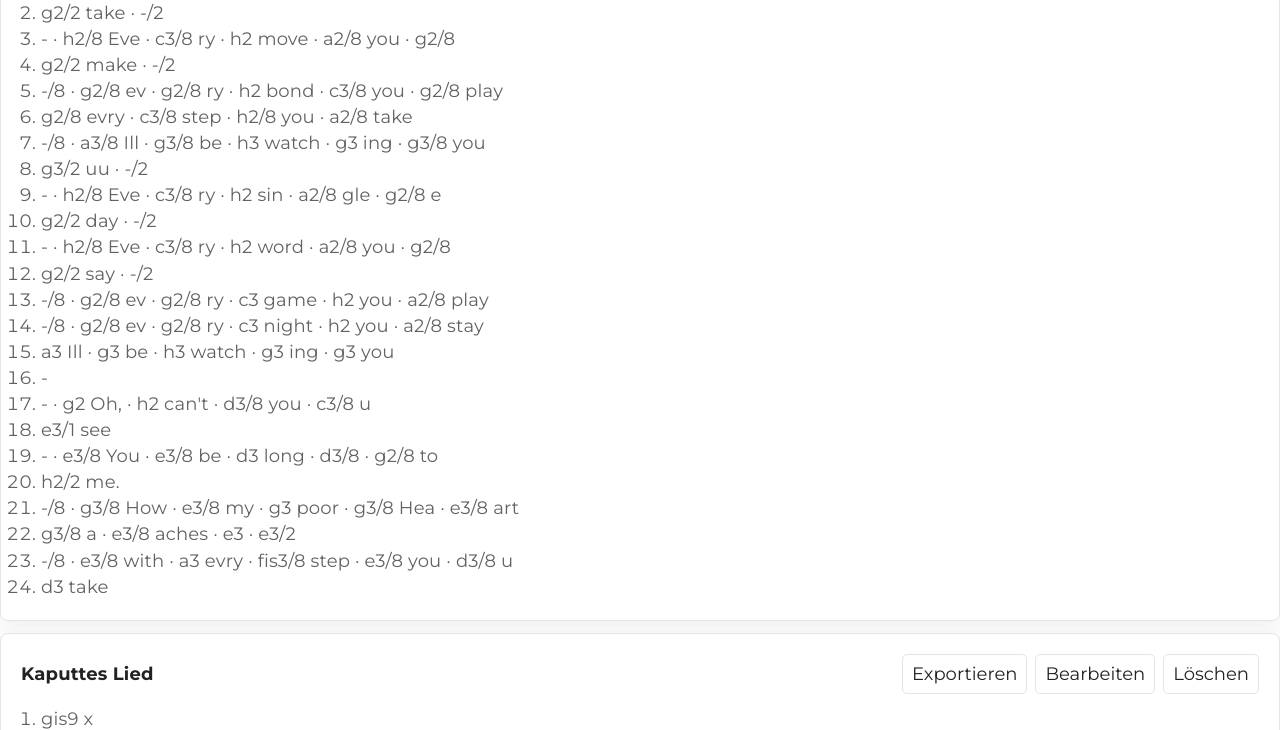
Test: SongCreateSection › zeigt beim Öffnen eines ungültigen Lieds Zeile, Eintrag und Ursache an
(page scrolled)
Click the button named "Lied \"Kaputtes Lied\" bearbeiten" at (1095, 674), box x1=1035 y1=654 x2=1155 y2=694
(page scrolled)
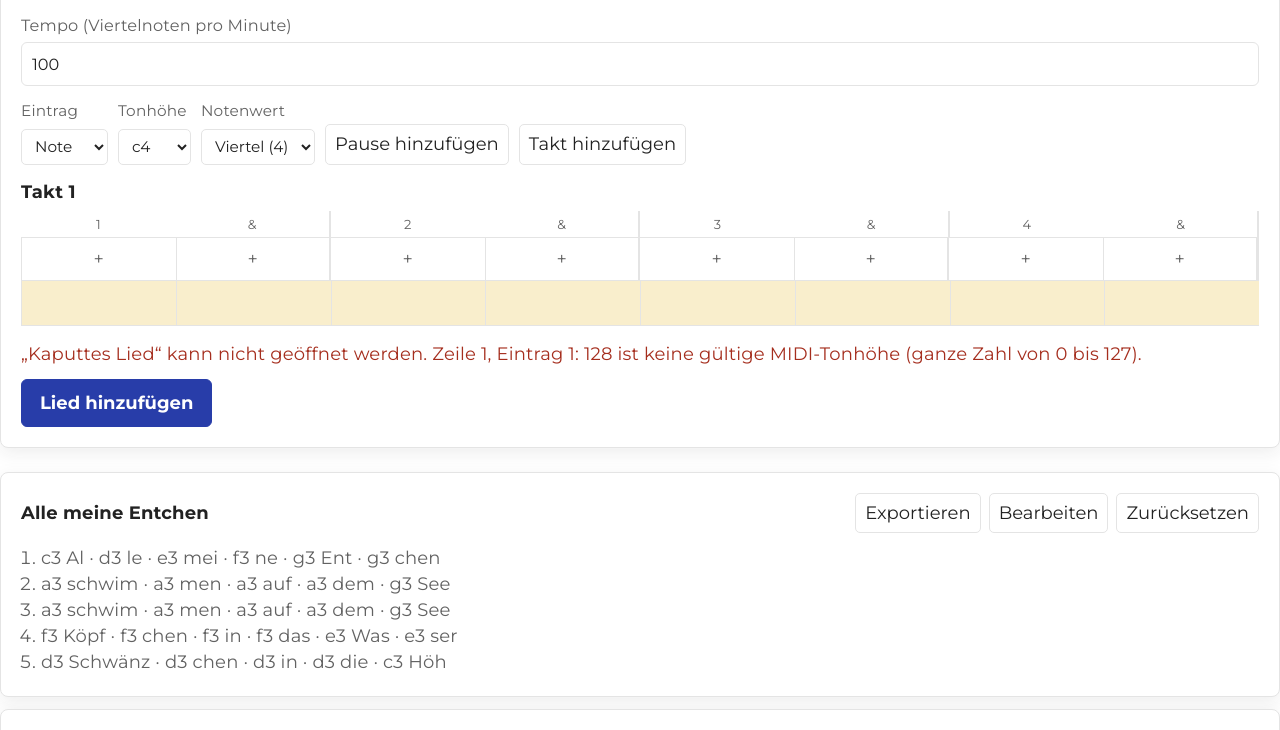
Check: the message shows "Zeile 1, Eintrag 1: 128 ist keine gültige MIDI-Tonhöhe (ganze Zahl von 0 bis 127).", box x1=21 y1=343 x2=1142 y2=365
